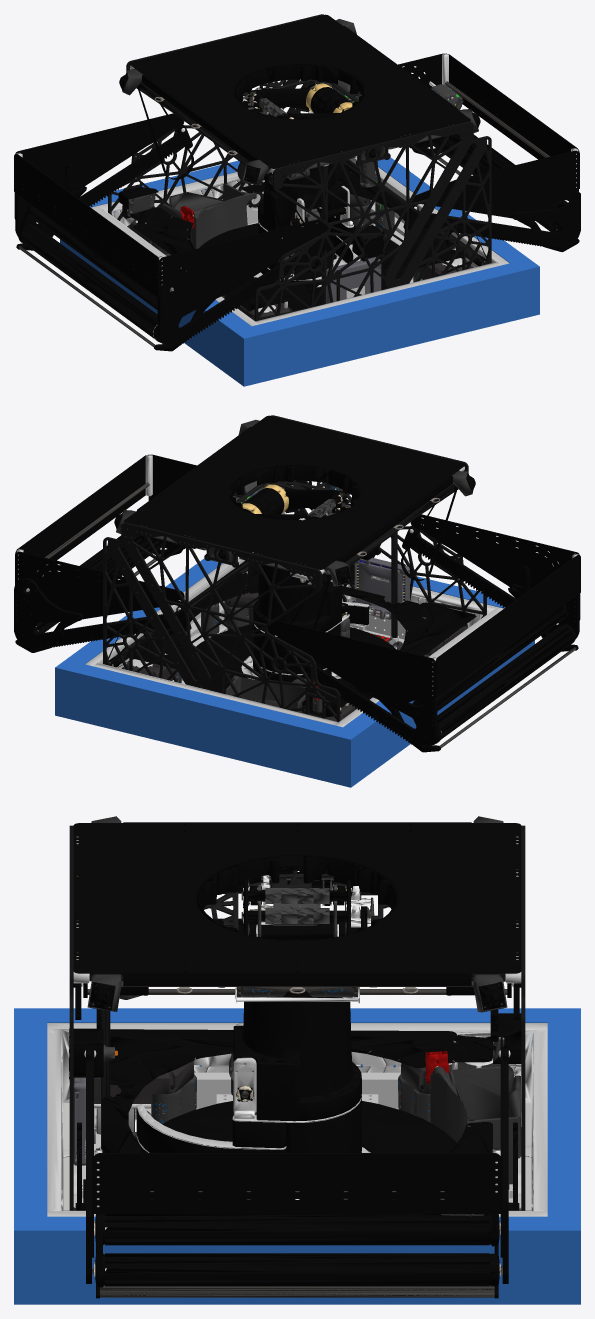
Rendered from robot.glb.
3 renders of one model, top to bottom at view 1: azimuth 30°, elevation 25°; view 2: azimuth 150°, elevation 25°; view 3: azimuth 270°, elevation 25°, orthographic. The views are drawn at different scales.
Visible parts, largest first — view 1: chassis-cad, chassis-source-panel-Upper Top Plate, intake-source-panel-Intake SRPP Plates, chassis-source-panel-Super Structure, plain-bumper-side-1, opposed-intake-source-panel-Intake SRPP Plates, plain-bumper-end--1, turret-cad, intake-roller-left-lower-cad, plain-bumper-end-1, intake-roller-left-upper-cad, opposed-intake-cad (+5 smaller); view 2: chassis-cad, chassis-source-panel-Upper Top Plate, intake-source-panel-Intake SRPP Plates, chassis-source-panel-Super Structure, plain-bumper-side--1, opposed-intake-source-panel-Intake SRPP Plates, plain-bumper-end--1, turret-cad, intake-roller-left-lower-cad, plain-bumper-end-1, intake-roller-left-upper-cad, intake-cad (+5 smaller); view 3: chassis-cad, chassis-source-panel-Upper Top Plate, opposed-intake-source-panel-Intake SRPP Plates, plain-bumper-end-1, intake-roller-right-lower-cad, intake-roller-right-upper-cad, turret-cad, chassis-source-panel-Super Structure, plain-bumper-side--1, plain-bumper-side-1, plain-bumper-end--1, opposed-intake-cad (+6 smaller).
Boxes of the visible parts, x1,y1,x2,y2 form: chassis-cad: (91, 19, 509, 325); chassis-source-panel-Upper Top Plate: (129, 14, 470, 168); intake-source-panel-Intake SRPP Plates: (14, 113, 334, 345); chassis-source-panel-Super Structure: (108, 14, 491, 321); plain-bumper-side-1: (252, 263, 520, 381); opposed-intake-source-panel-Intake SRPP Plates: (272, 53, 580, 249); plain-bumper-end--1: (60, 239, 262, 386); turret-cad: (234, 64, 365, 119); intake-roller-left-lower-cad: (20, 222, 162, 343); plain-bumper-end-1: (378, 157, 539, 318); intake-roller-left-upper-cad: (27, 204, 157, 310); opposed-intake-cad: (280, 53, 579, 251); chassis-cad: (85, 419, 503, 727); chassis-source-panel-Upper Top Plate: (124, 415, 465, 569); intake-source-panel-Intake SRPP Plates: (260, 514, 580, 746); chassis-source-panel-Super Structure: (103, 415, 486, 721); plain-bumper-side--1: (73, 664, 342, 782); opposed-intake-source-panel-Intake SRPP Plates: (14, 454, 322, 650); plain-bumper-end--1: (332, 640, 534, 787); turret-cad: (229, 465, 360, 552); intake-roller-left-lower-cad: (432, 623, 576, 744); plain-bumper-end-1: (55, 558, 222, 719); intake-roller-left-upper-cad: (413, 604, 566, 711); intake-cad: (379, 529, 579, 752); chassis-cad: (47, 816, 547, 1216); chassis-source-panel-Upper Top Plate: (73, 822, 521, 991); opposed-intake-source-panel-Intake SRPP Plates: (86, 1029, 508, 1287); plain-bumper-end-1: (14, 1216, 580, 1304); intake-roller-right-lower-cad: (92, 1253, 502, 1286); intake-roller-right-upper-cad: (94, 1214, 500, 1245); turret-cad: (196, 856, 398, 1003); chassis-source-panel-Super Structure: (69, 825, 525, 1210); plain-bumper-side--1: (547, 1022, 580, 1216); plain-bumper-side-1: (14, 1022, 47, 1216); plain-bumper-end--1: (14, 1008, 580, 1067); opposed-intake-cad: (84, 1050, 510, 1298).
Size of the model in its own units: 1.2 by 0.5523 by 0.8924.
